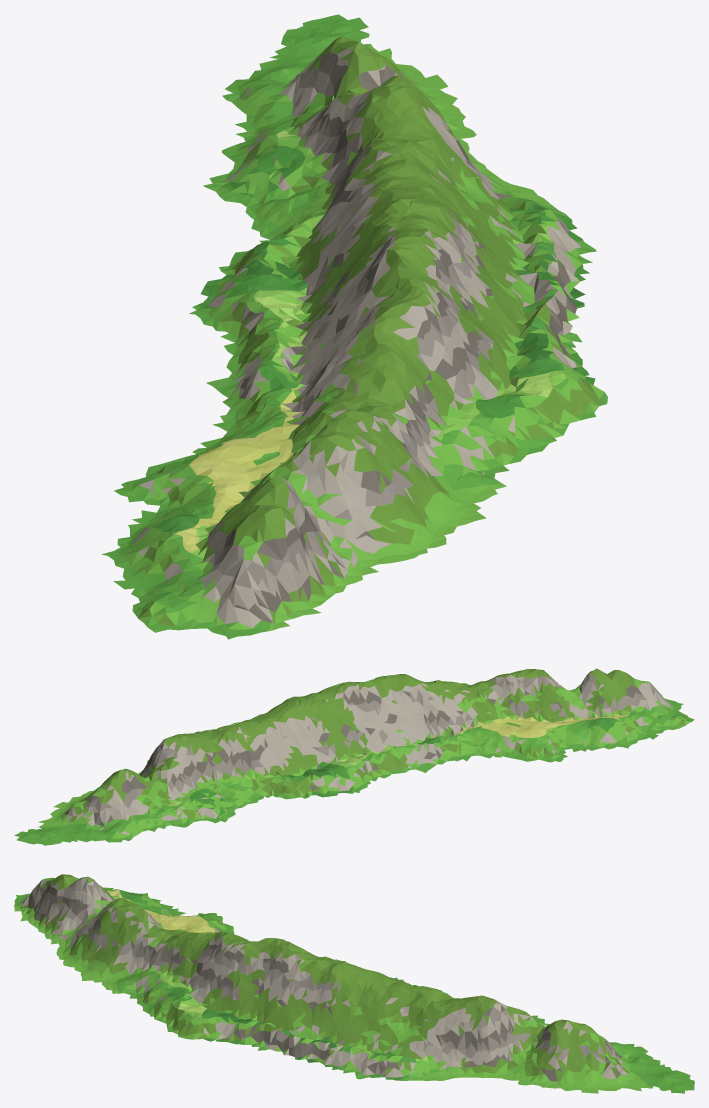
File: Isl-long6-Relief.fbx
3 views of the same model, one above another, from view 1: azimuth 30°, elevation 25°; view 2: azimuth 150°, elevation 25°; view 3: azimuth 270°, elevation 25° (orthographic). The views are drawn at different scales.
Parts seen in each view (by area): view 1: Isl-long6-Relief-c11, Isl-long6-Relief-c22, Isl-long6-Relief-c12, Isl-long6-Relief-c21; view 2: Isl-long6-Relief-c11, Isl-long6-Relief-c22, Isl-long6-Relief-c12; view 3: Isl-long6-Relief-c22, Isl-long6-Relief-c11, Isl-long6-Relief-c21.
Boxes of the visible parts, x1=… form: Isl-long6-Relief-c11: x1=101, y1=212, x2=566, y2=639; Isl-long6-Relief-c22: x1=217, y1=14, x2=596, y2=275; Isl-long6-Relief-c12: x1=189, y1=176, x2=412, y2=360; Isl-long6-Relief-c21: x1=413, y1=206, x2=607, y2=427; Isl-long6-Relief-c11: x1=306, y1=668, x2=694, y2=773; Isl-long6-Relief-c22: x1=14, y1=696, x2=305, y2=845; Isl-long6-Relief-c12: x1=212, y1=699, x2=398, y2=823; Isl-long6-Relief-c22: x1=329, y1=961, x2=694, y2=1093; Isl-long6-Relief-c11: x1=14, y1=874, x2=331, y2=1021; Isl-long6-Relief-c21: x1=162, y1=961, x2=332, y2=1066.
Bounding box in the file's own units: 82.5 × 12.18 × 112.
